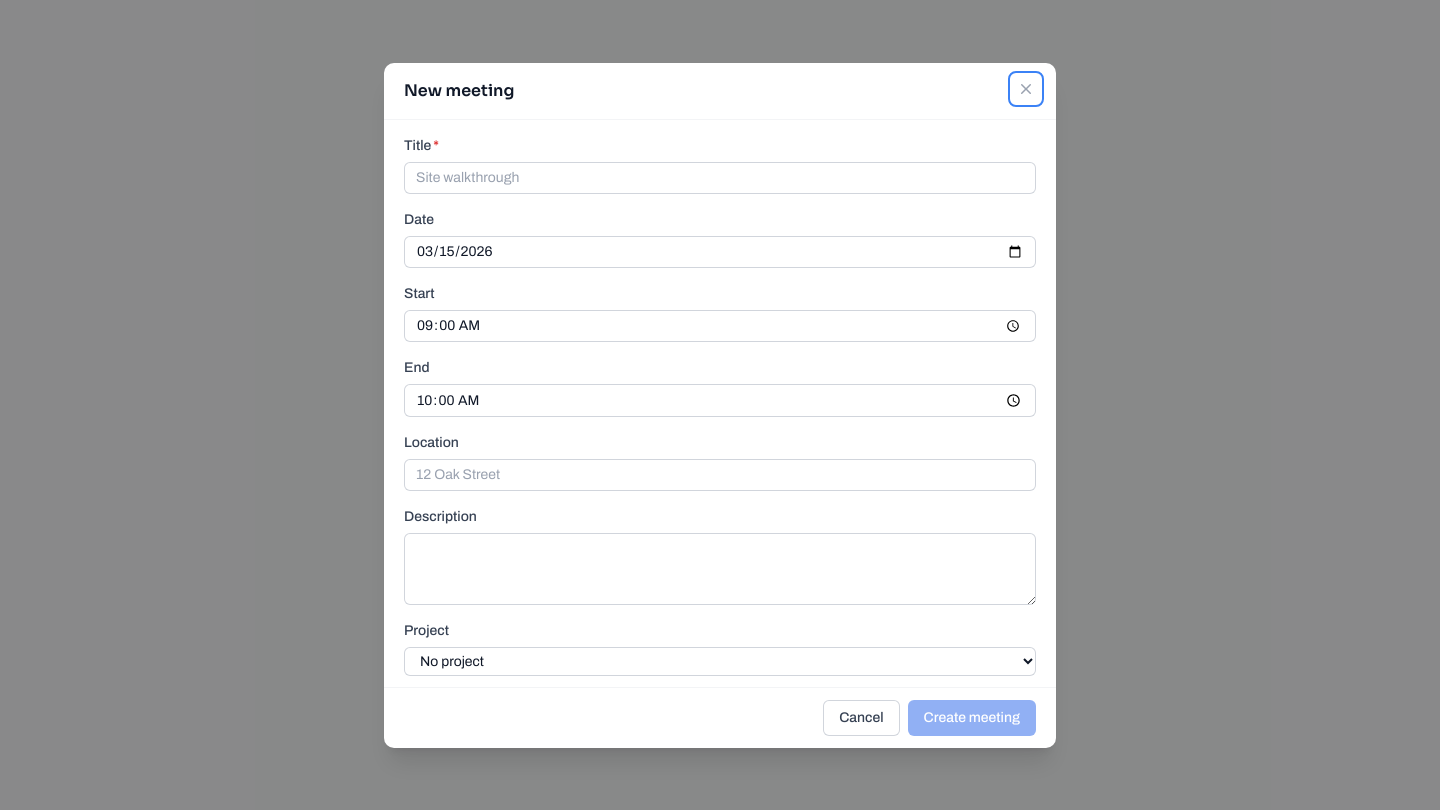
Scenario: MeetingModal › creating › defaults the end to an hour after the start
Replace the text in the time field labelled "Start" with "14:00" at (720, 326), box [404,310,1036,342]
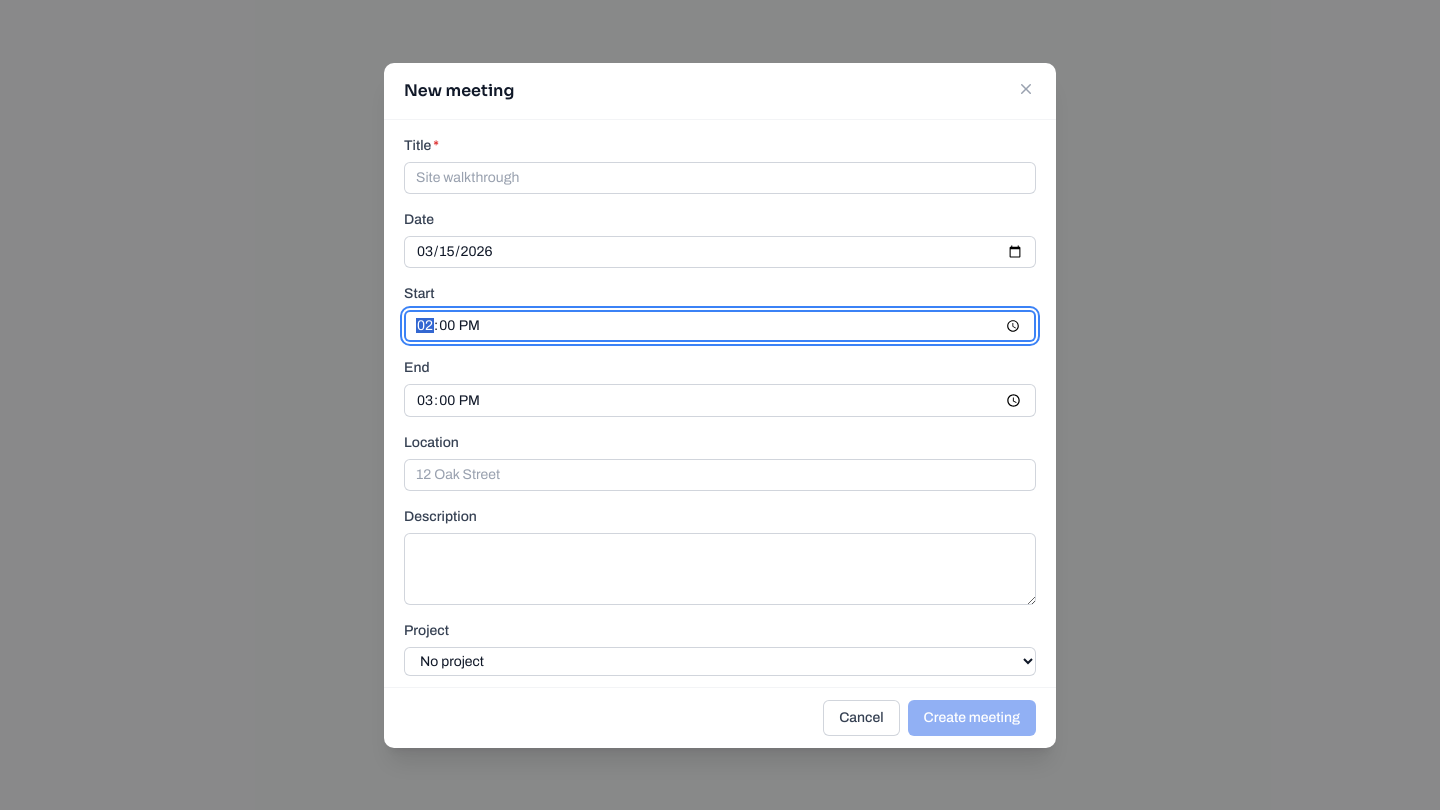
Check: the time field labelled "End" holds "15:00", box [404,384,1036,417]
